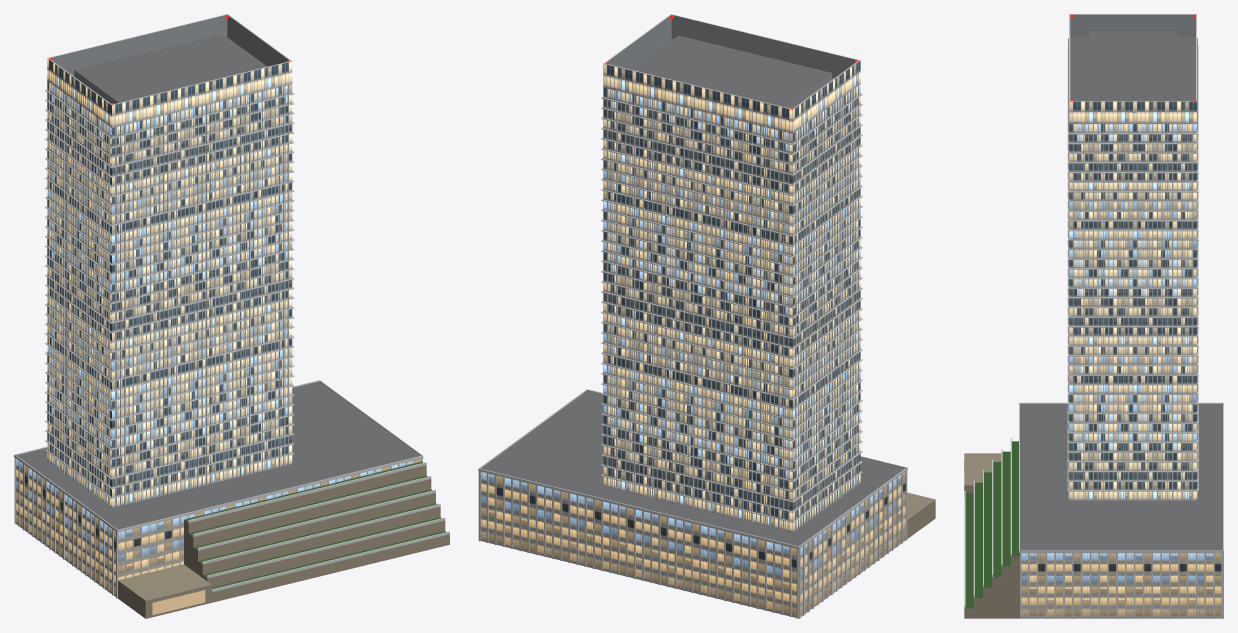
Rendered from tokyo_port_city_takeshiba.glb.
The picture shows the model from 3 angles, left to right: view 1: azimuth 30°, elevation 25°; view 2: azimuth 150°, elevation 25°; view 3: azimuth 270°, elevation 25°; orthographic projection. The views are drawn at different scales.
Visible parts, largest first — view 1: tokyo_port_city_takeshiba; view 2: tokyo_port_city_takeshiba; view 3: tokyo_port_city_takeshiba.
Part boxes in pixels (x1,y1,x2,y2): tokyo_port_city_takeshiba: (14,14,449,618); tokyo_port_city_takeshiba: (478,14,935,618); tokyo_port_city_takeshiba: (964,14,1223,618).
Size of the model in its own units: 142 by 208 by 105.
Materials: 3 (3 with a texture image).
